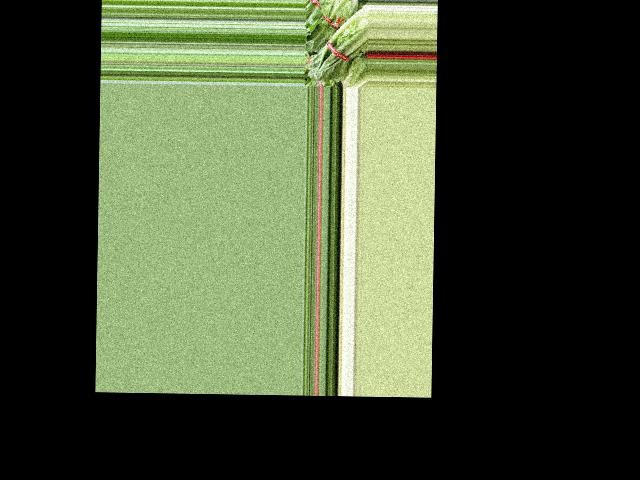lettuce: (307, 4, 369, 83)
